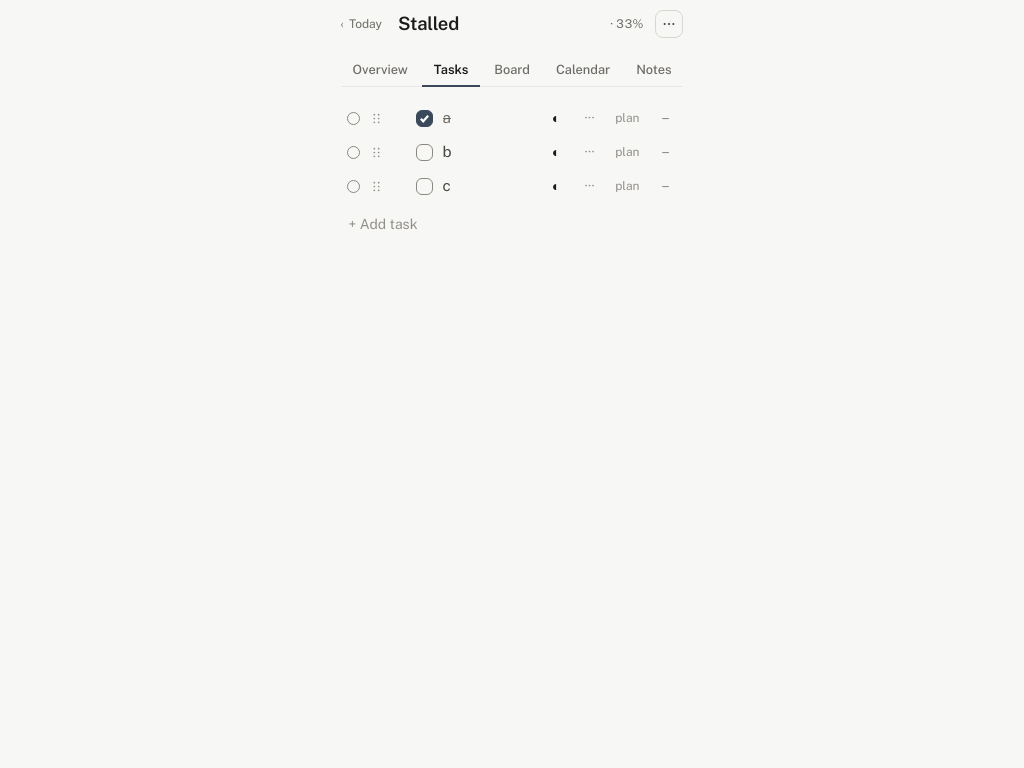
Test case: a project with no schedule › names a stall, which a deadline-based pace line cannot see
Click the button named "Goal status and dates" at (627, 24), box [602, 10, 652, 38]
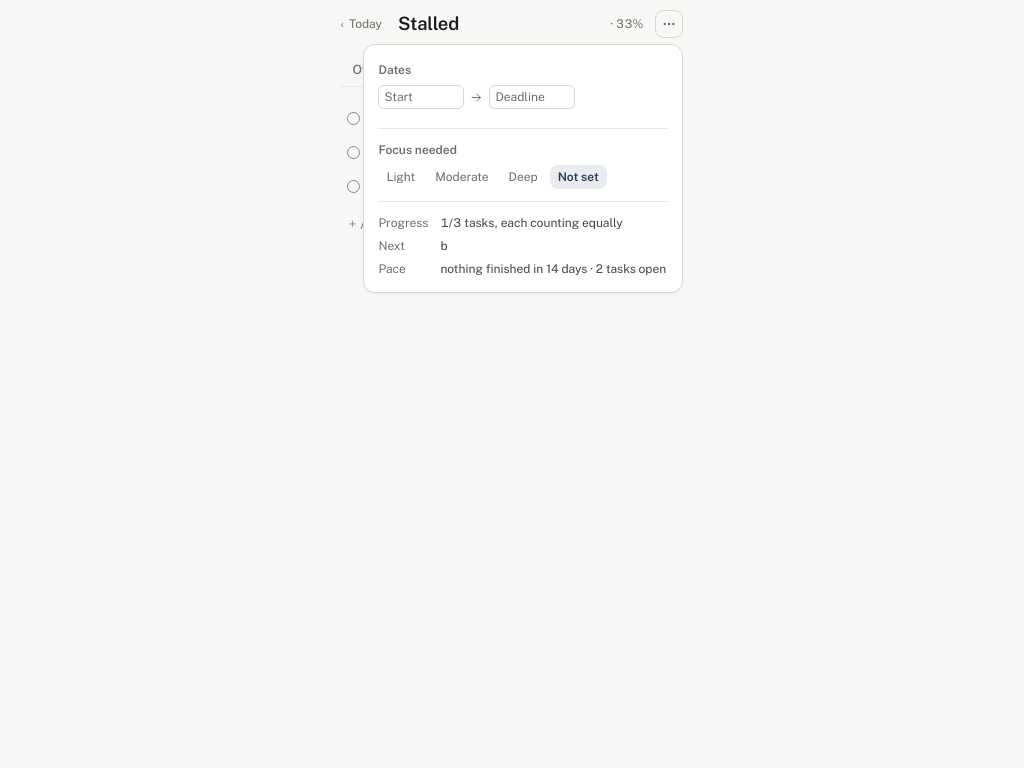
Expected: the text "nothing finished in 14 days · 2 tasks open" is shown, [440, 260, 668, 278]
